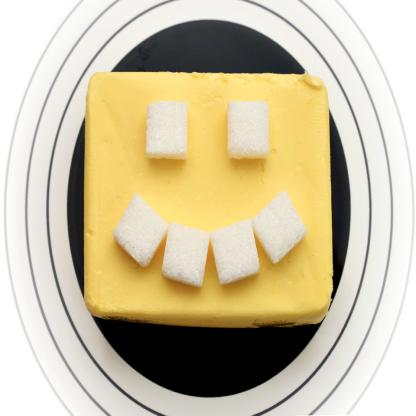butter: (85, 66, 328, 325)
